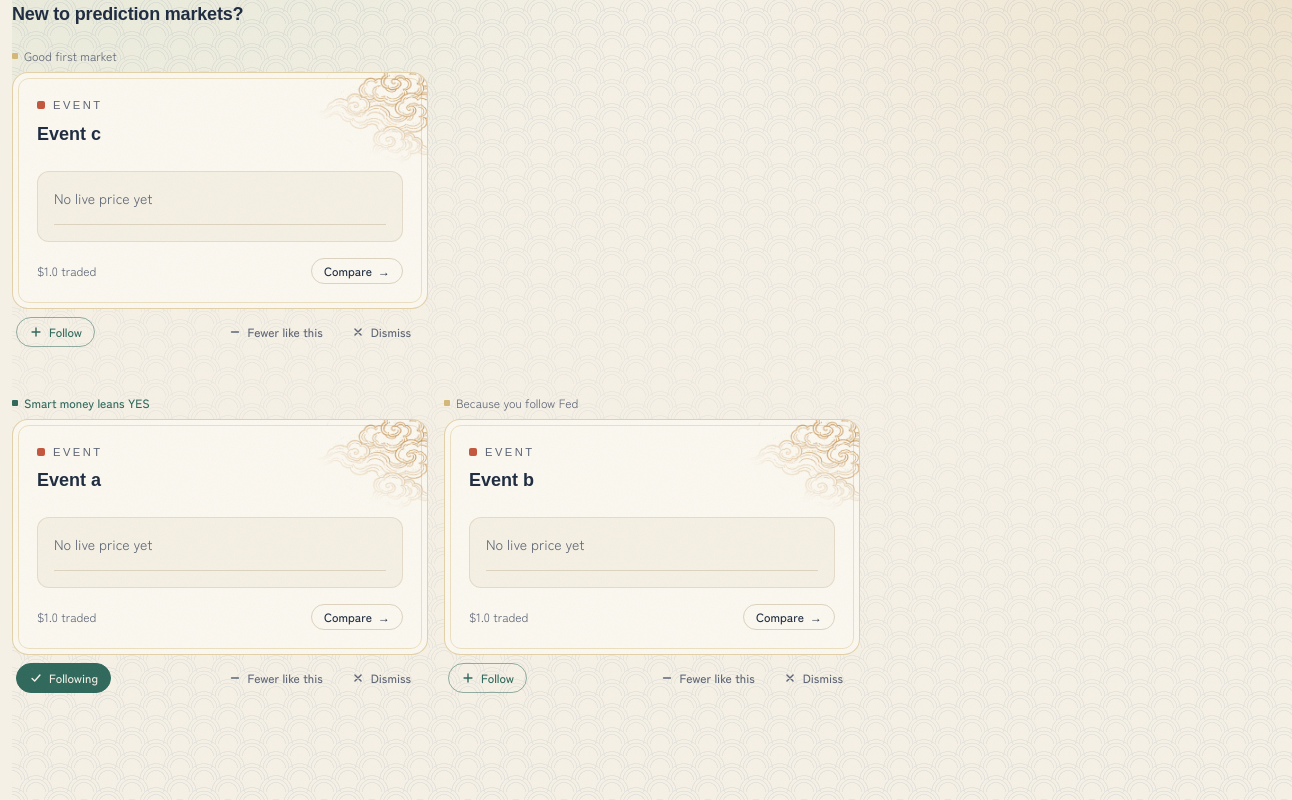
Test: FeedList › follow toggles
This screenshot has width=1292, height=800.
Click the button "Following". click: point(64, 678)
box: 16,663 -> 111,693
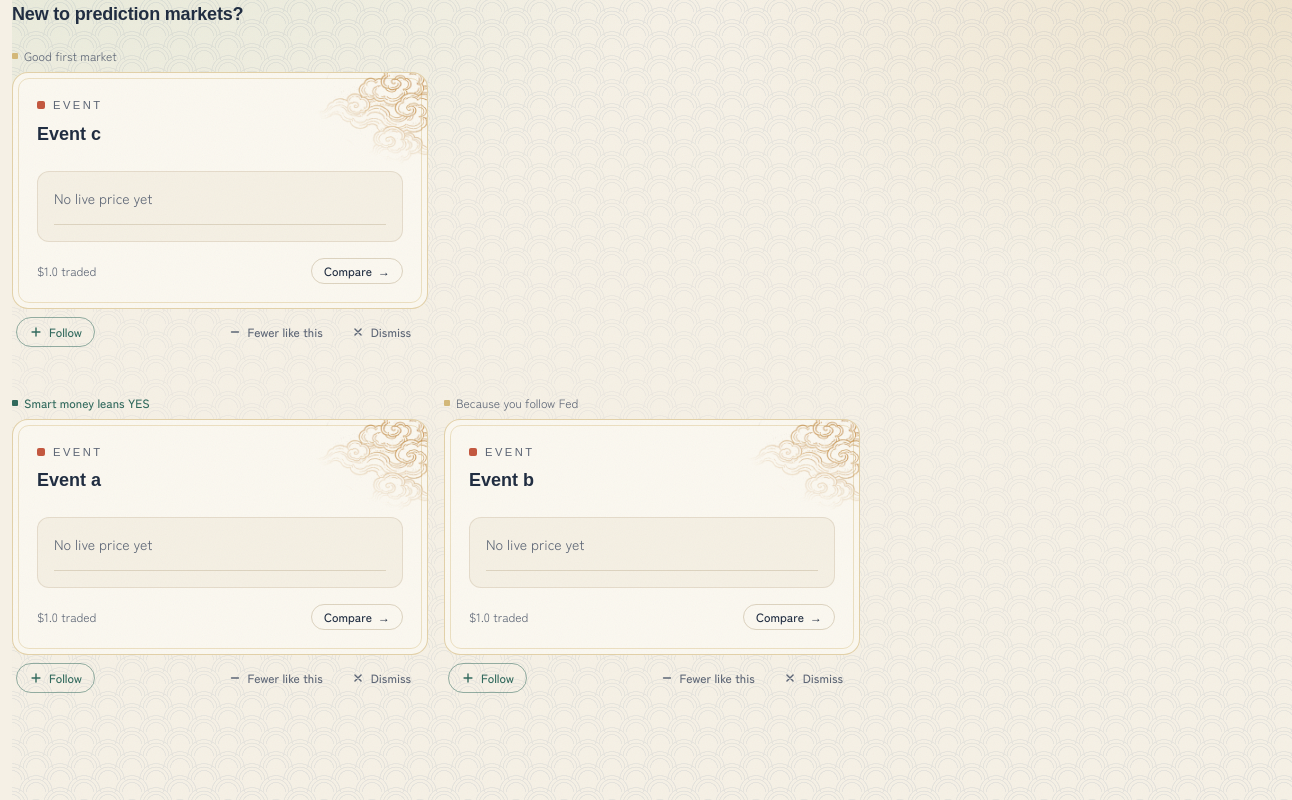
Check: the button "Following" is gone
